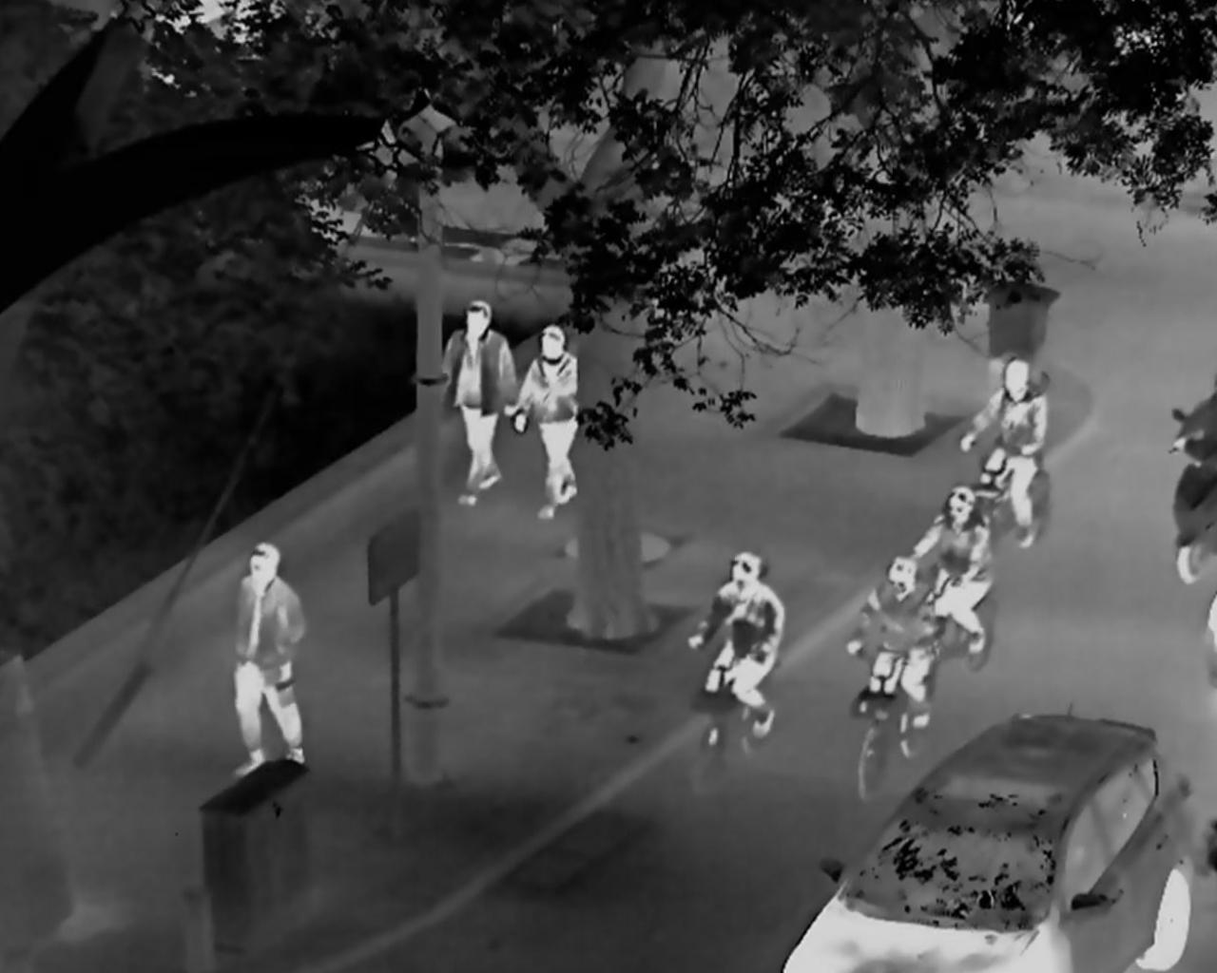person: (687, 551, 785, 742), (229, 542, 307, 775), (960, 354, 1048, 551), (441, 297, 521, 506), (844, 553, 937, 730), (910, 484, 995, 655), (521, 325, 584, 520)
